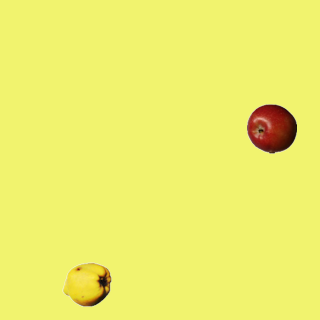Apple Braeburn: (246, 103, 296, 153)
Quince: (61, 259, 111, 309)
